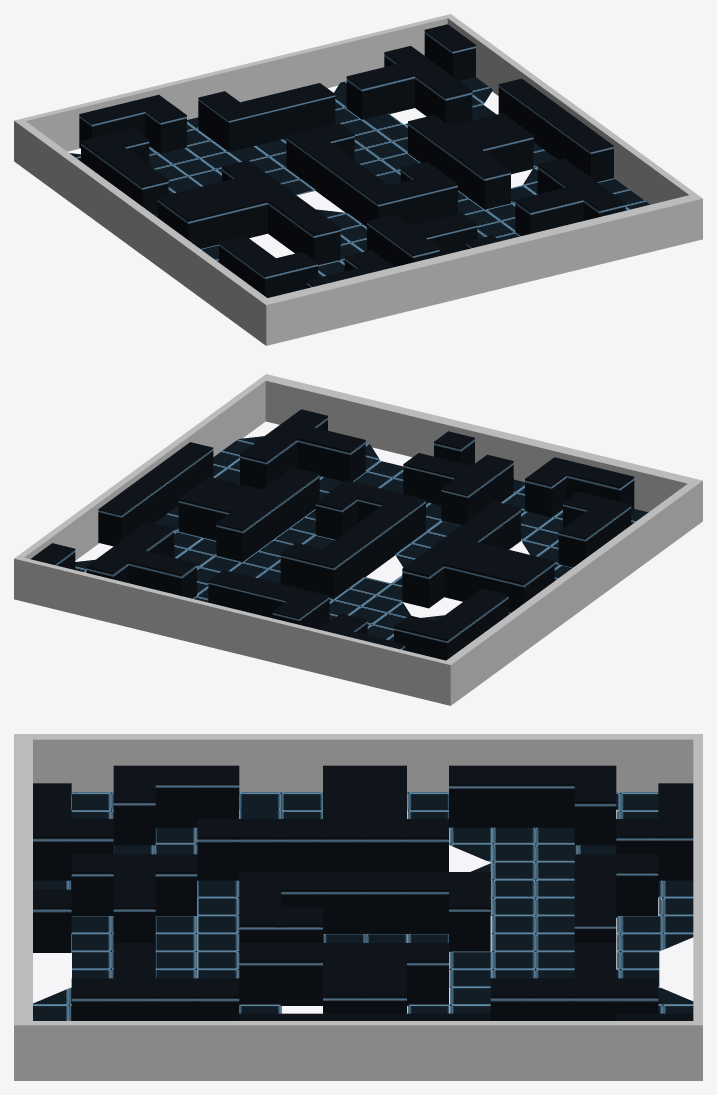
File: NewLevel1.6.fbx
3 renders of one model, top to bottom at view 1: azimuth 30°, elevation 25°; view 2: azimuth 150°, elevation 25°; view 3: azimuth 270°, elevation 25°, orthographic. The views are drawn at different scales.
Visible parts, largest first — view 1: Walls, Outerwall, Floor; view 2: Walls, Outerwall, Floor; view 3: Walls, Outerwall, Floor.
Boxes of the visible parts, <box> form: Walls: <box>79,24,625,297</box>; Outerwall: <box>14,14,702,345</box>; Floor: <box>69,77,649,277</box>; Walls: <box>30,409,634,660</box>; Outerwall: <box>14,374,702,705</box>; Floor: <box>75,436,648,641</box>; Walls: <box>33,765,693,1020</box>; Outerwall: <box>14,734,702,1080</box>; Floor: <box>33,792,693,1020</box>.
Bounding box in the file's own units: 100 × 8.92 × 100.
